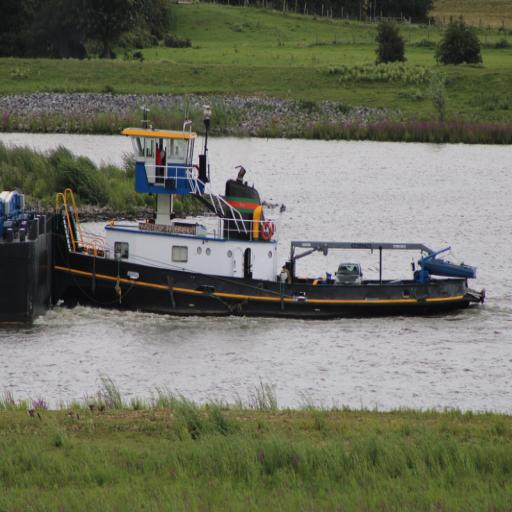tugboat: (50, 102, 489, 331)
